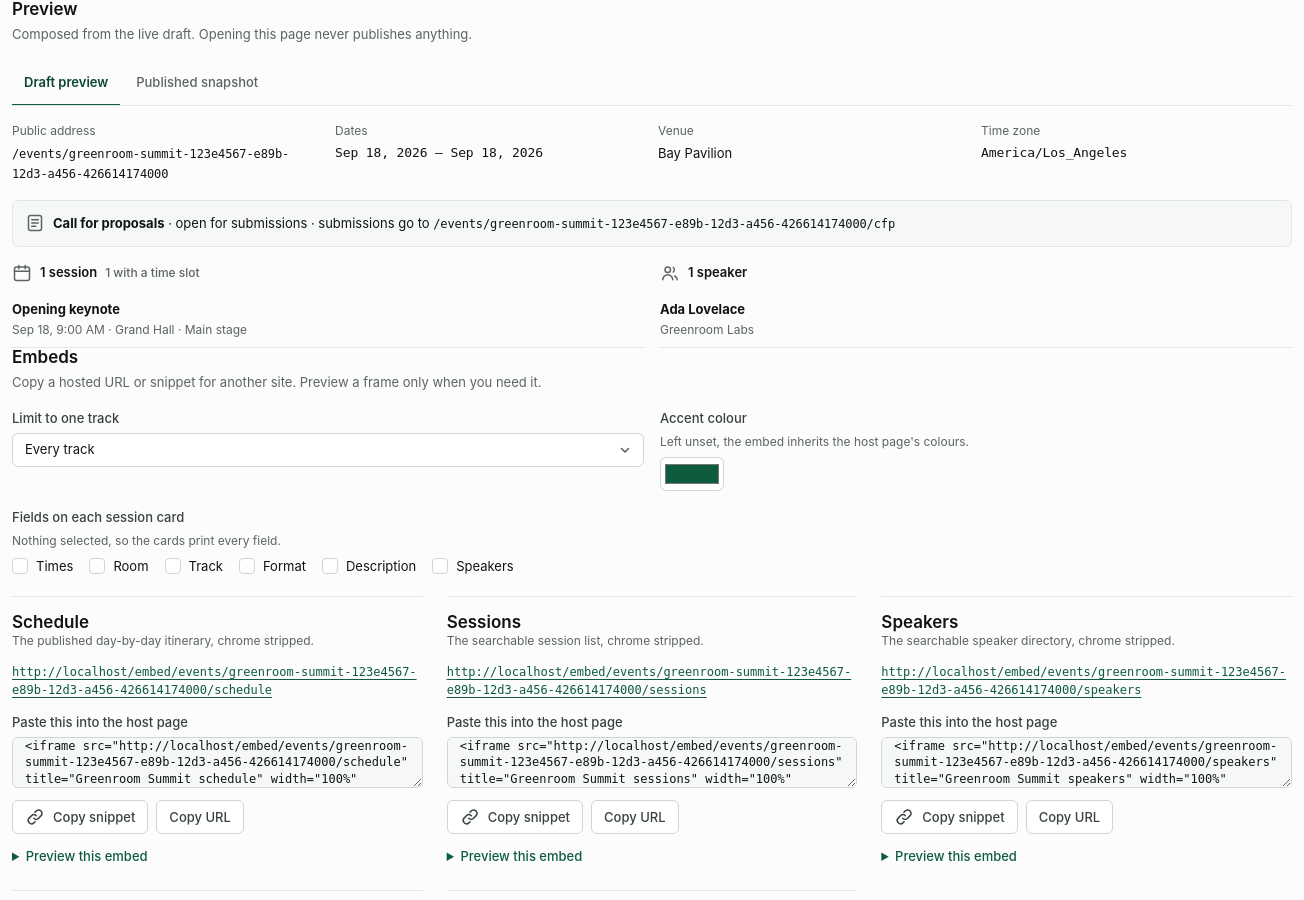
Test: PublishingWorkspace › writes the chosen options into every snippet it hands out
The width and height of the screenshot is (1304, 900).
(page scrolled)
Expected: the 1st text box labelled "Paste this into the host page" is shown, [12, 737, 423, 788]
Step 1. Press ArrowDown in the dropdown named "Limit to one track", box [12, 433, 644, 467]
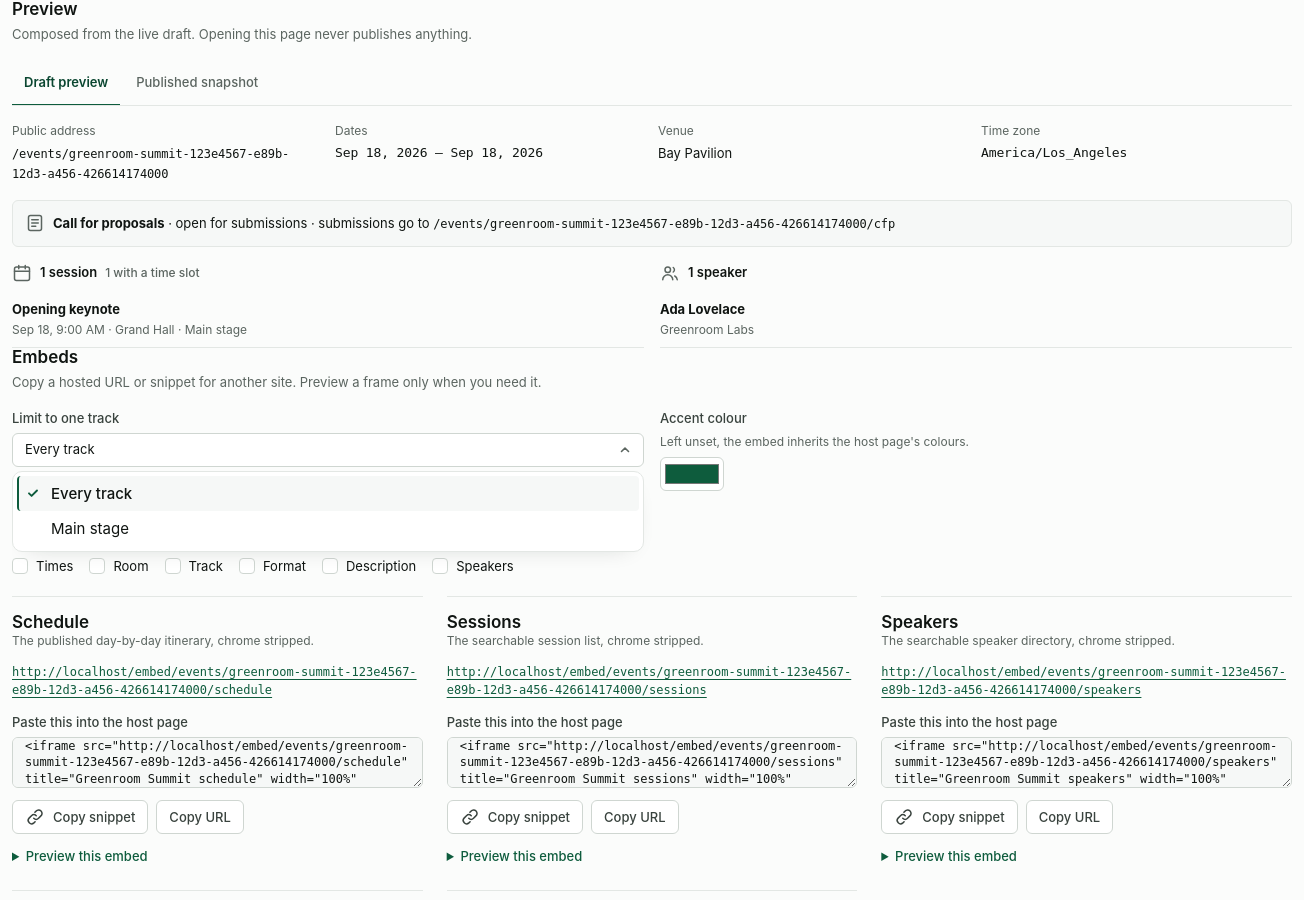
Step 2. Click the option "Main stage" → click(90, 529), box [51, 519, 129, 538]
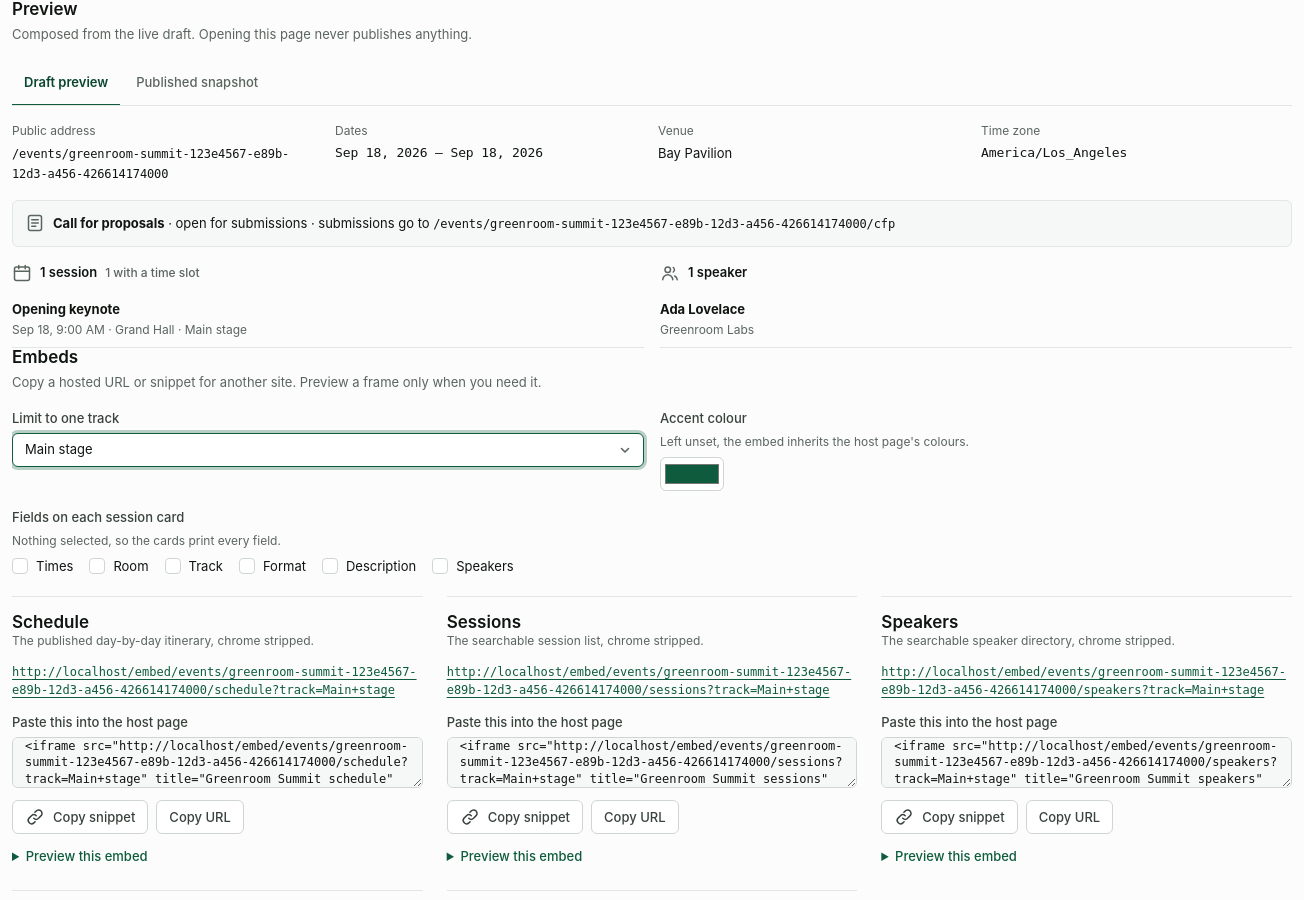
Step 3. Click the checkbox labelled "Times" → click(43, 566), box [12, 556, 73, 576]
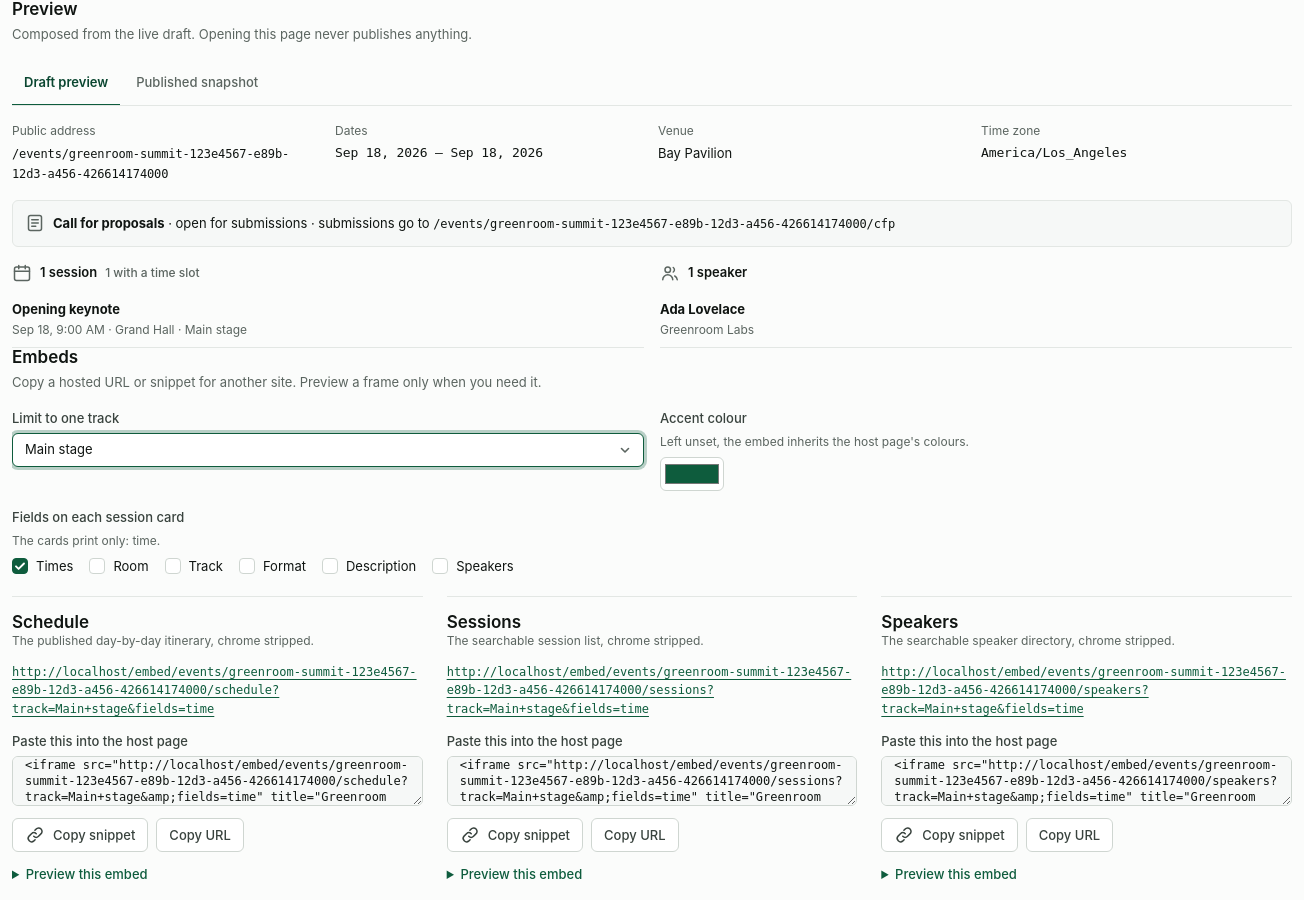
Now the text "The cards print only: time." is shown, box [12, 533, 160, 548]
